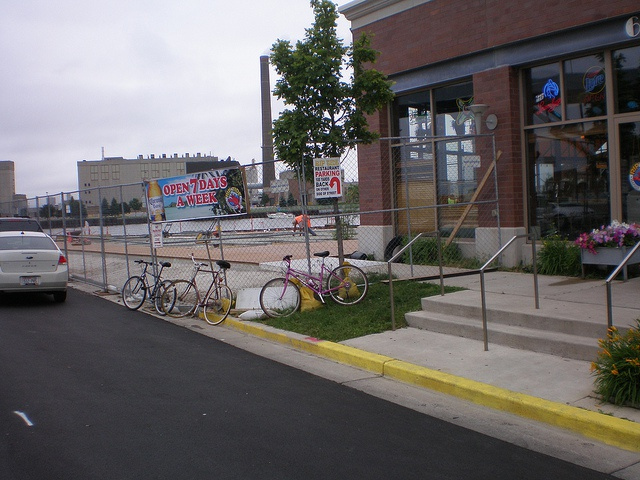non-vehicle: (261, 250, 366, 317), (156, 251, 237, 331), (121, 259, 177, 315)
